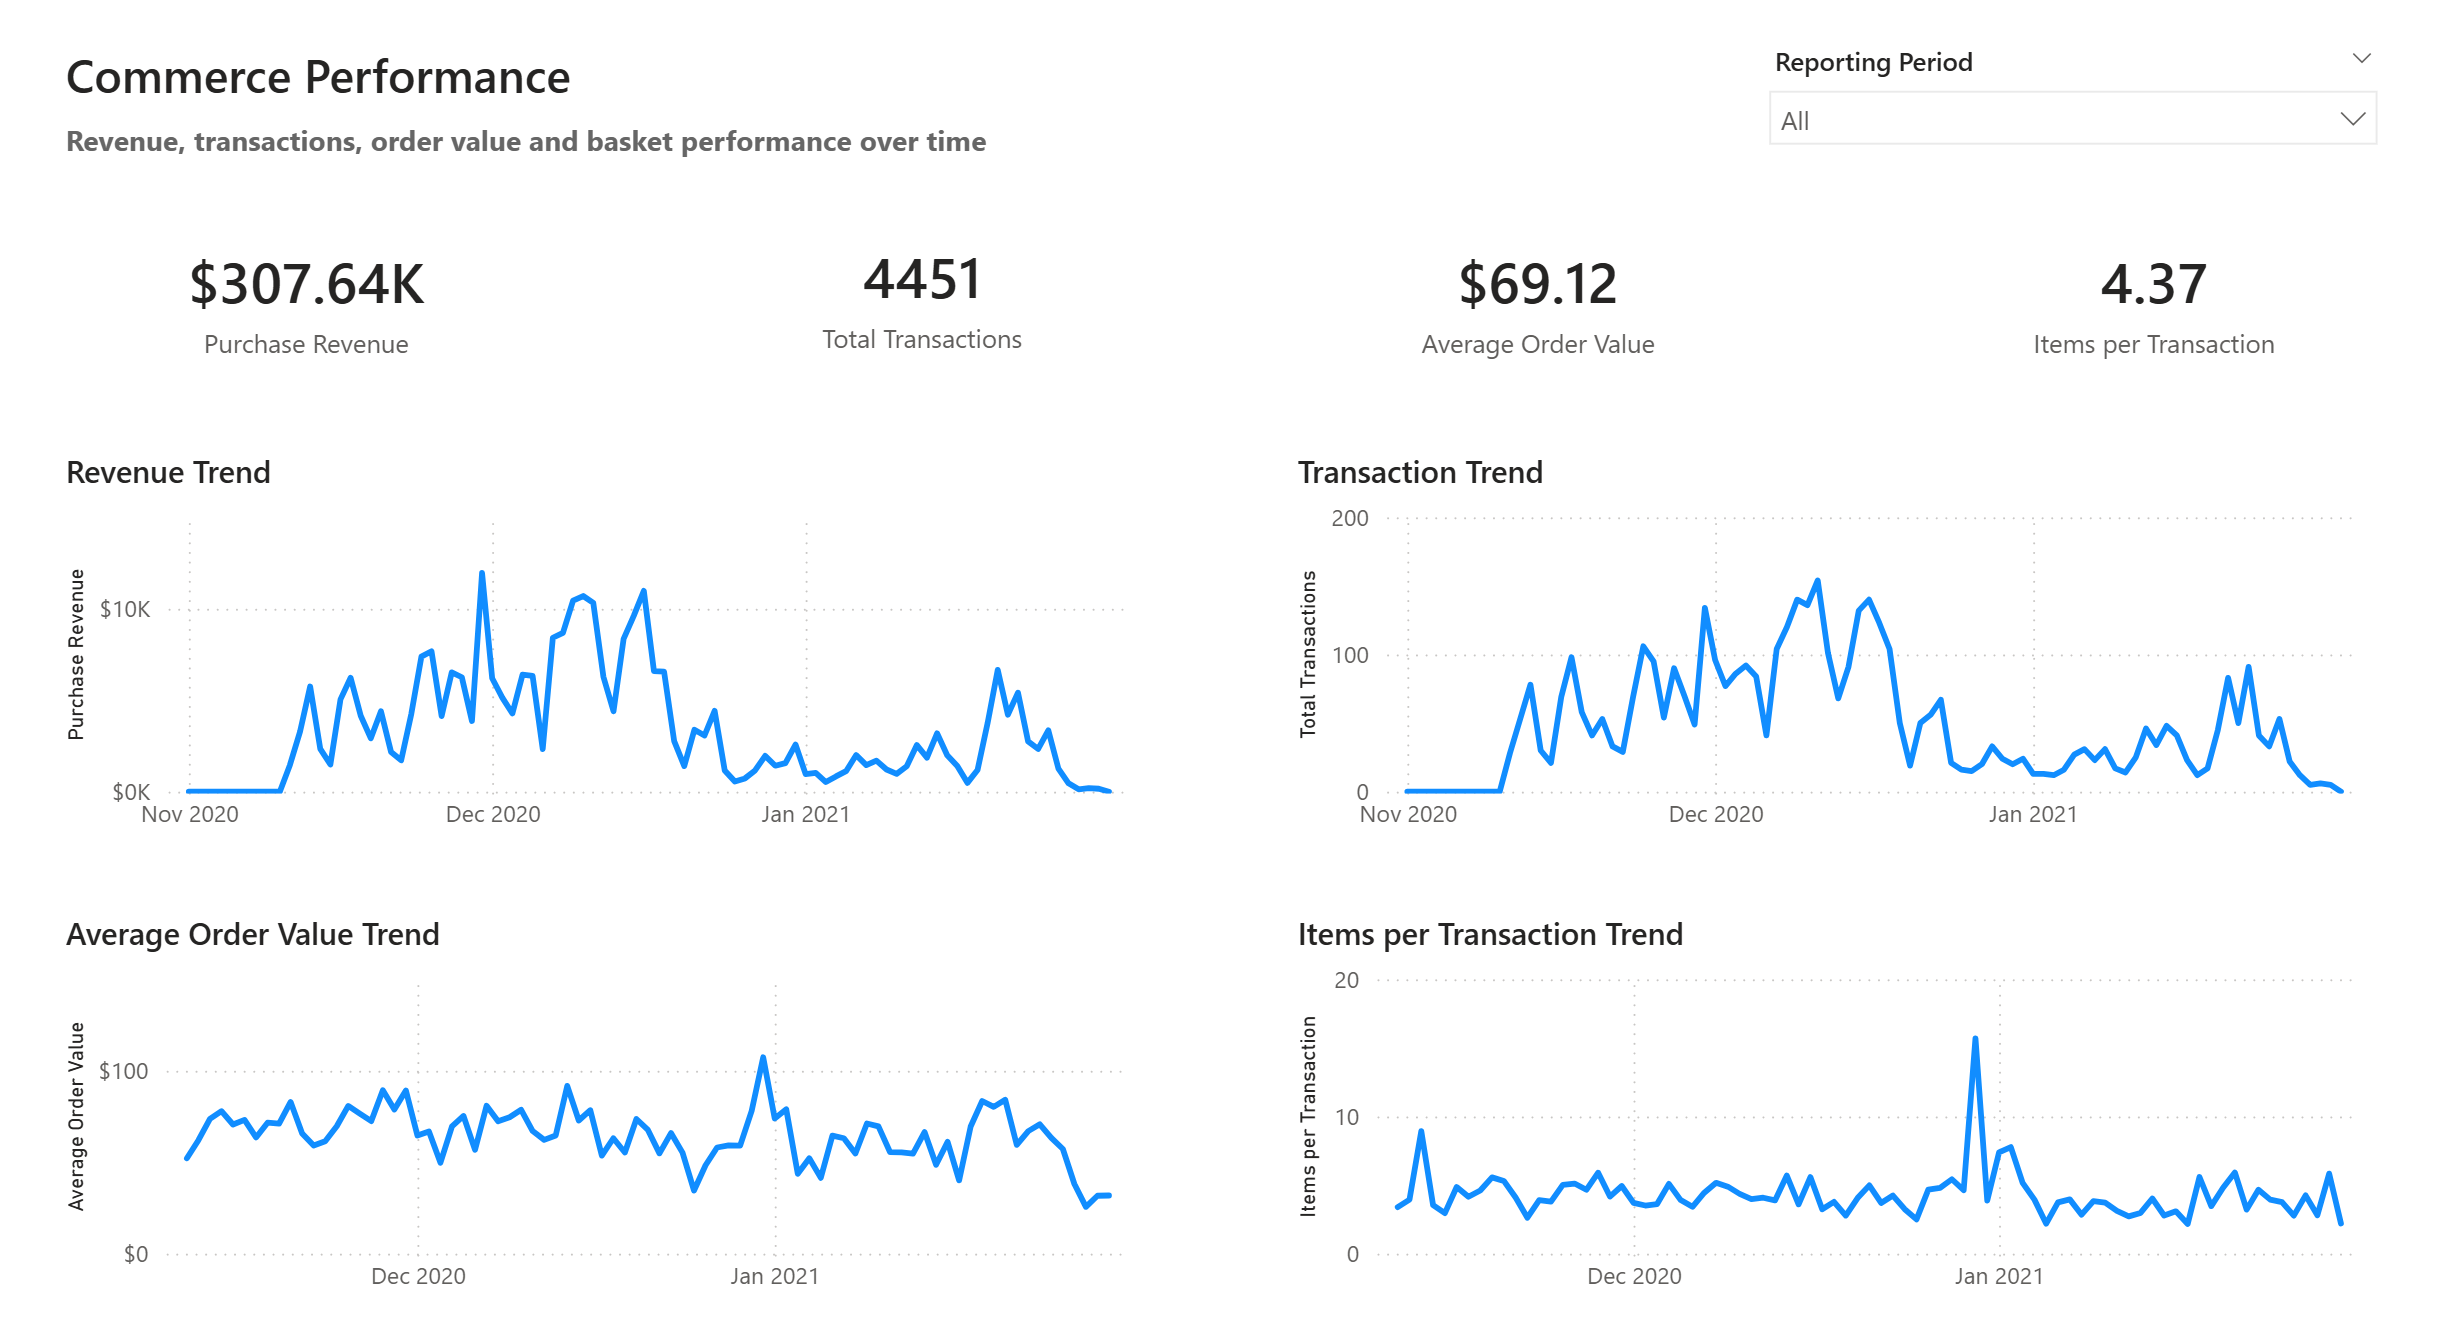

The dashboard page shown, as its layout file describes it:
{"tool":"powerbi","page":{"name":"Commerce Performance","canvas":[1280,720],"ordinal":2},"visuals":[{"type":"textbox","box":[32,24,280,51],"z":0},{"type":"textbox","box":[32,64,500,48],"z":1000},{"type":"slicer","fields":{"Values":["dim_date.year_month"]},"box":[912,24,336,64],"z":2000},{"type":"card","fields":{"Values":["Measures (2).Purchase Revenue"]},"box":[32,123,260,80],"z":3000},{"type":"card","fields":{"Values":["Measures (2).Total Transactions"]},"box":[352,123,260,75],"z":4000},{"type":"card","fields":{"Values":["Measures (2).Average Order Value"]},"box":[672,123,260,80],"z":5000},{"type":"card","fields":{"Values":["Measures (2).Items per Transaction"]},"box":[992,123,260,80],"z":6000},{"type":"lineChart","title":"Revenue Trend","fields":{"Category":["dim_date.date_day"],"Y":["Measures (2).Purchase Revenue"]},"box":[32,240,576,208],"z":7000},{"type":"lineChart","title":"Transaction Trend","fields":{"Category":["dim_date.date_day"],"Y":["Measures (2).Total Transactions"]},"box":[672,240,576,208],"z":8000},{"type":"lineChart","title":"Average Order Value Trend","fields":{"Category":["dim_date.date_day"],"Y":["Measures (2).Average Order Value"]},"box":[32,480,576,208],"z":9000},{"type":"lineChart","title":"Items per Transaction Trend","fields":{"Category":["dim_date.date_day"],"Y":["Measures (2).Items per Transaction"]},"box":[672,480,576,208],"z":10000}]}

Visuals, with their boxes on the page's 1280x720 design canvas (x1, y1, x2, y2). These are canvas units, not pixel positions in the 2451x1337 screenshot, which may show the page scaled, cropped or inside an application window:
textbox: bbox(32, 24, 312, 75)
textbox: bbox(32, 64, 532, 112)
slicer - dim_date.year_month: bbox(912, 24, 1248, 88)
card - Measures (2).Purchase Revenue: bbox(32, 123, 292, 203)
card - Measures (2).Total Transactions: bbox(352, 123, 612, 198)
card - Measures (2).Average Order Value: bbox(672, 123, 932, 203)
card - Measures (2).Items per Transaction: bbox(992, 123, 1252, 203)
"Revenue Trend" lineChart: bbox(32, 240, 608, 448)
"Transaction Trend" lineChart: bbox(672, 240, 1248, 448)
"Average Order Value Trend" lineChart: bbox(32, 480, 608, 688)
"Items per Transaction Trend" lineChart: bbox(672, 480, 1248, 688)
